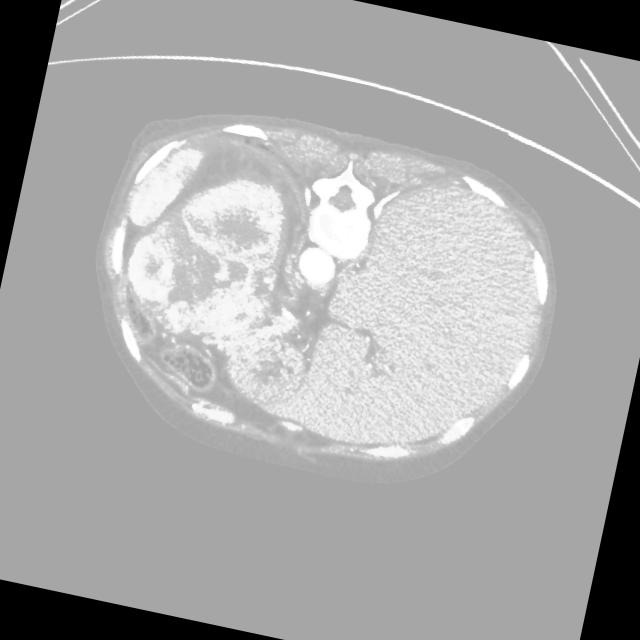TUMOR: (61, 122, 307, 336)
